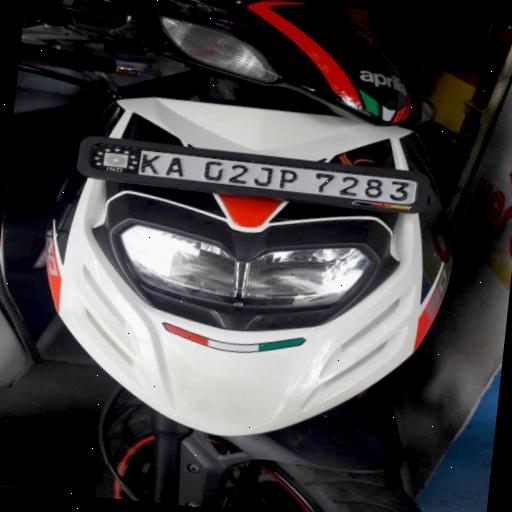number plate: (83, 140, 430, 210)
